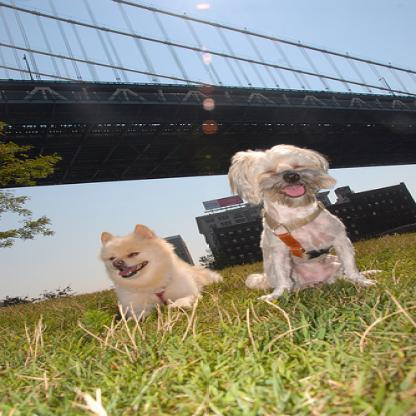dog: (226, 144, 388, 301), (98, 225, 227, 316)
